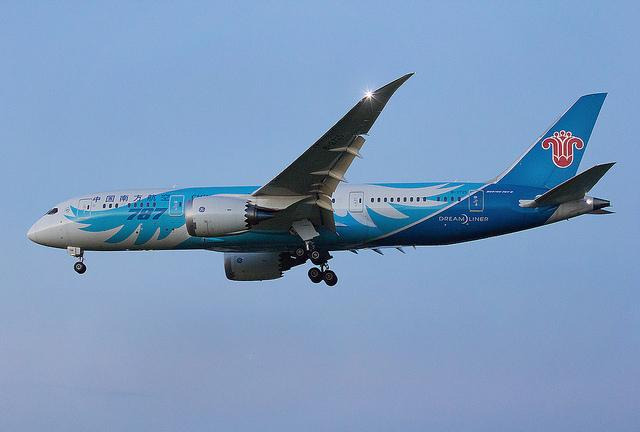airplane: (23, 71, 618, 288)
